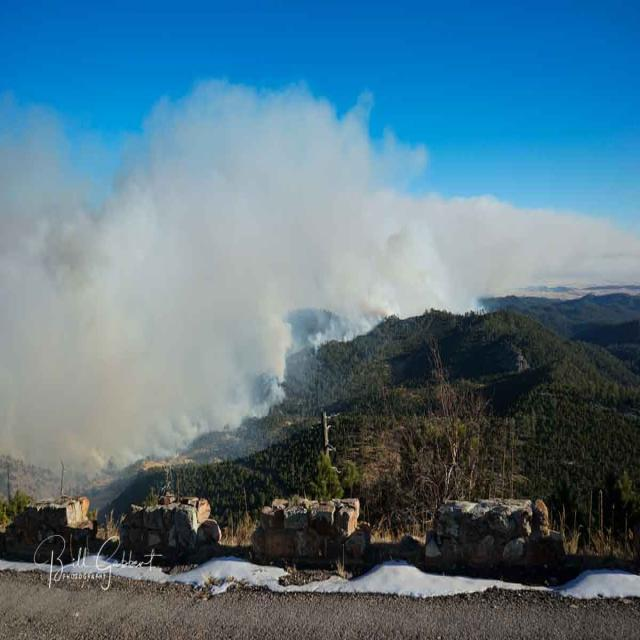Smoke: (0, 84, 489, 482)
